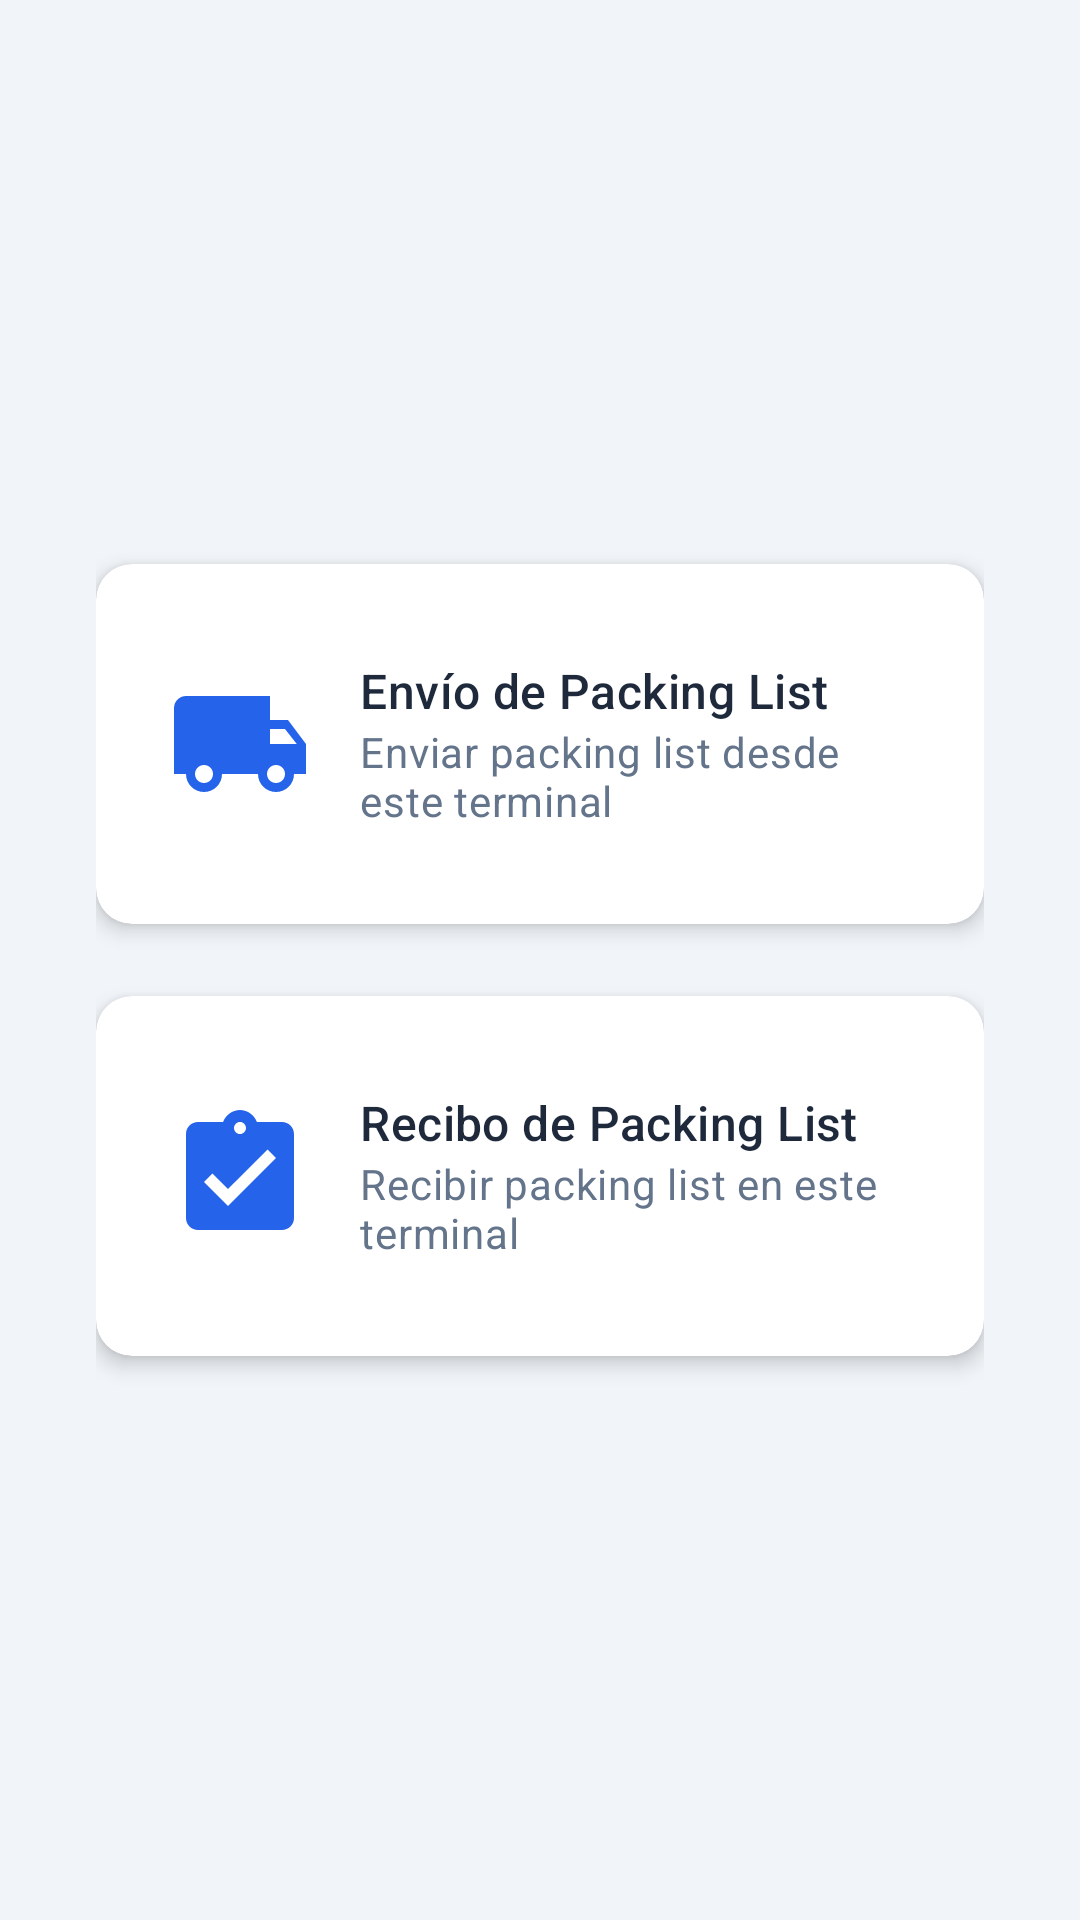

Screen size 1080×1920. Icon name, then its box in pixels as (x1, y1, x2, y2):
clipboard check: (186, 1110, 294, 1230)
truck: (174, 696, 306, 792)
